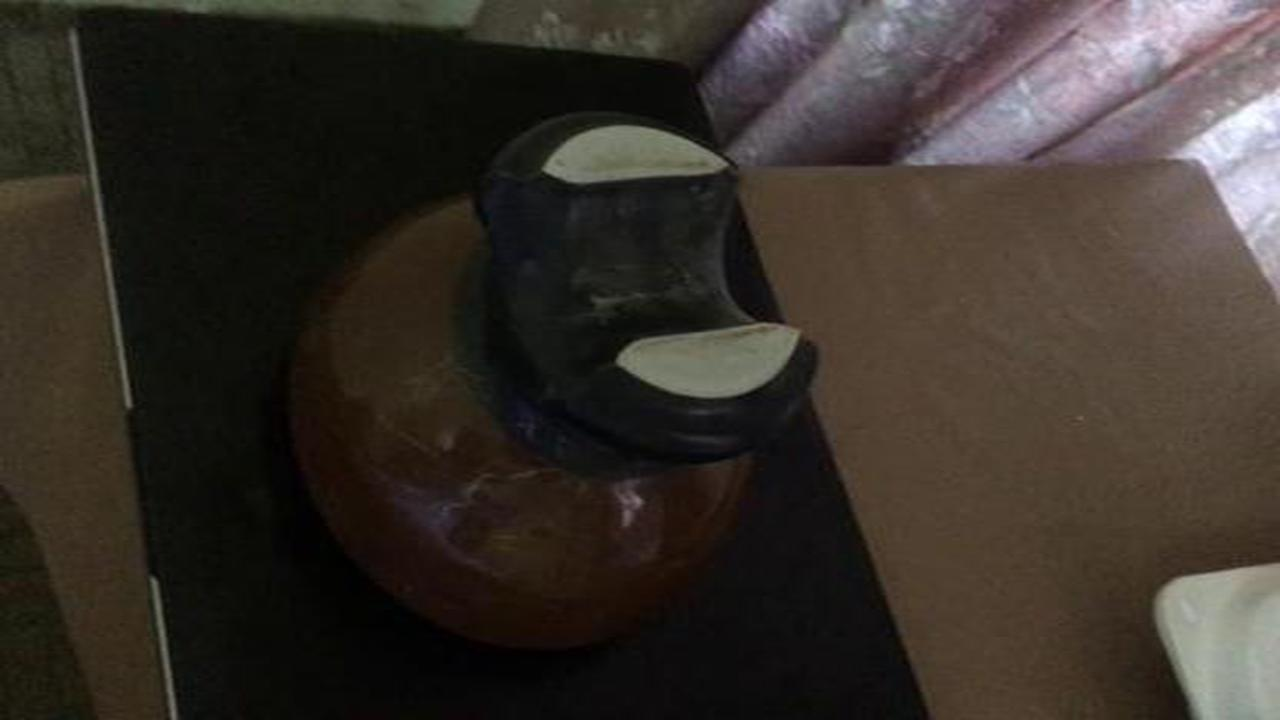insulator_pin: (271, 103, 834, 677)
